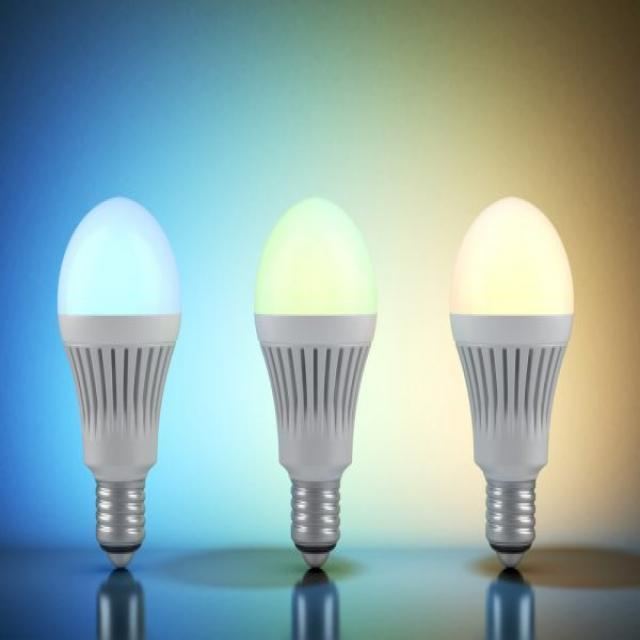light_bulb: (441, 174, 584, 578), (248, 167, 388, 577), (52, 170, 186, 586)
